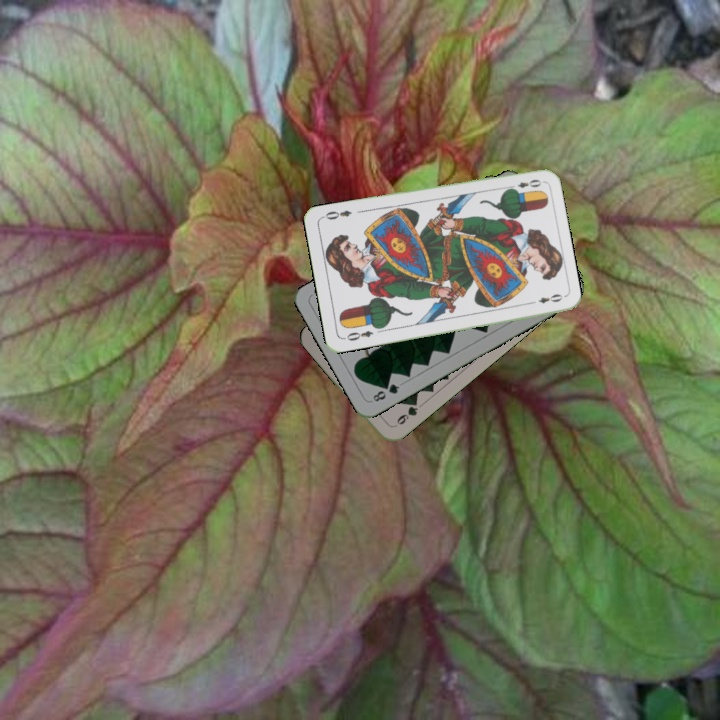EO: (504, 175, 544, 194), (343, 327, 375, 344)
G8: (369, 379, 402, 404)
G9: (389, 396, 421, 430)
